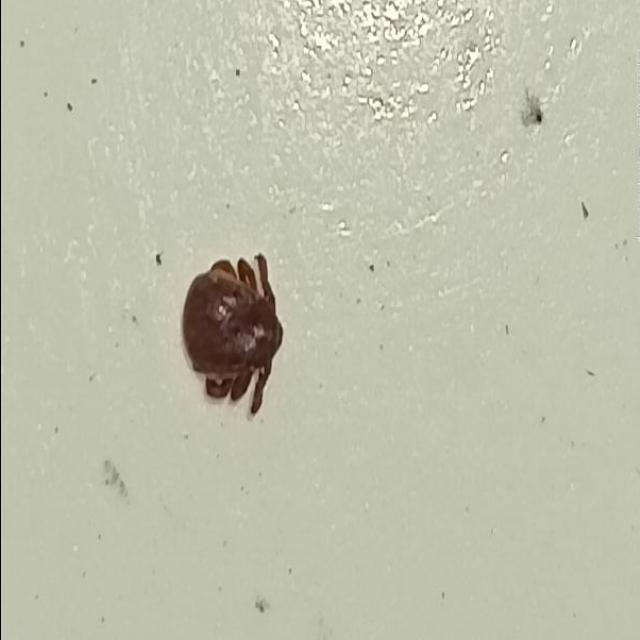Rhipicephalus Sanguineus-M: (180, 252, 284, 422)
